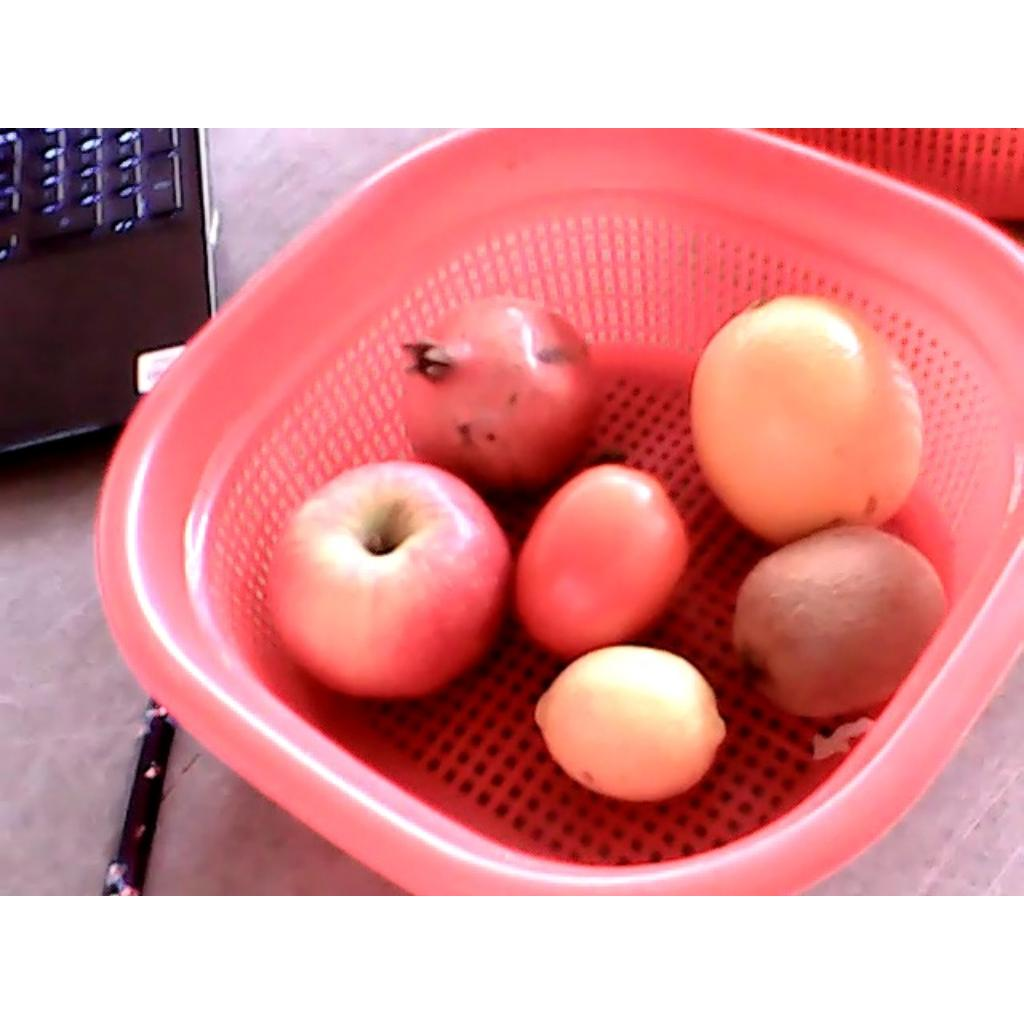apple: (266, 462, 514, 703)
kiwi: (736, 527, 944, 717)
lemon: (531, 644, 728, 801)
orange: (691, 291, 922, 542)
pomegranate: (392, 299, 598, 492)
tomato: (514, 464, 689, 657)
